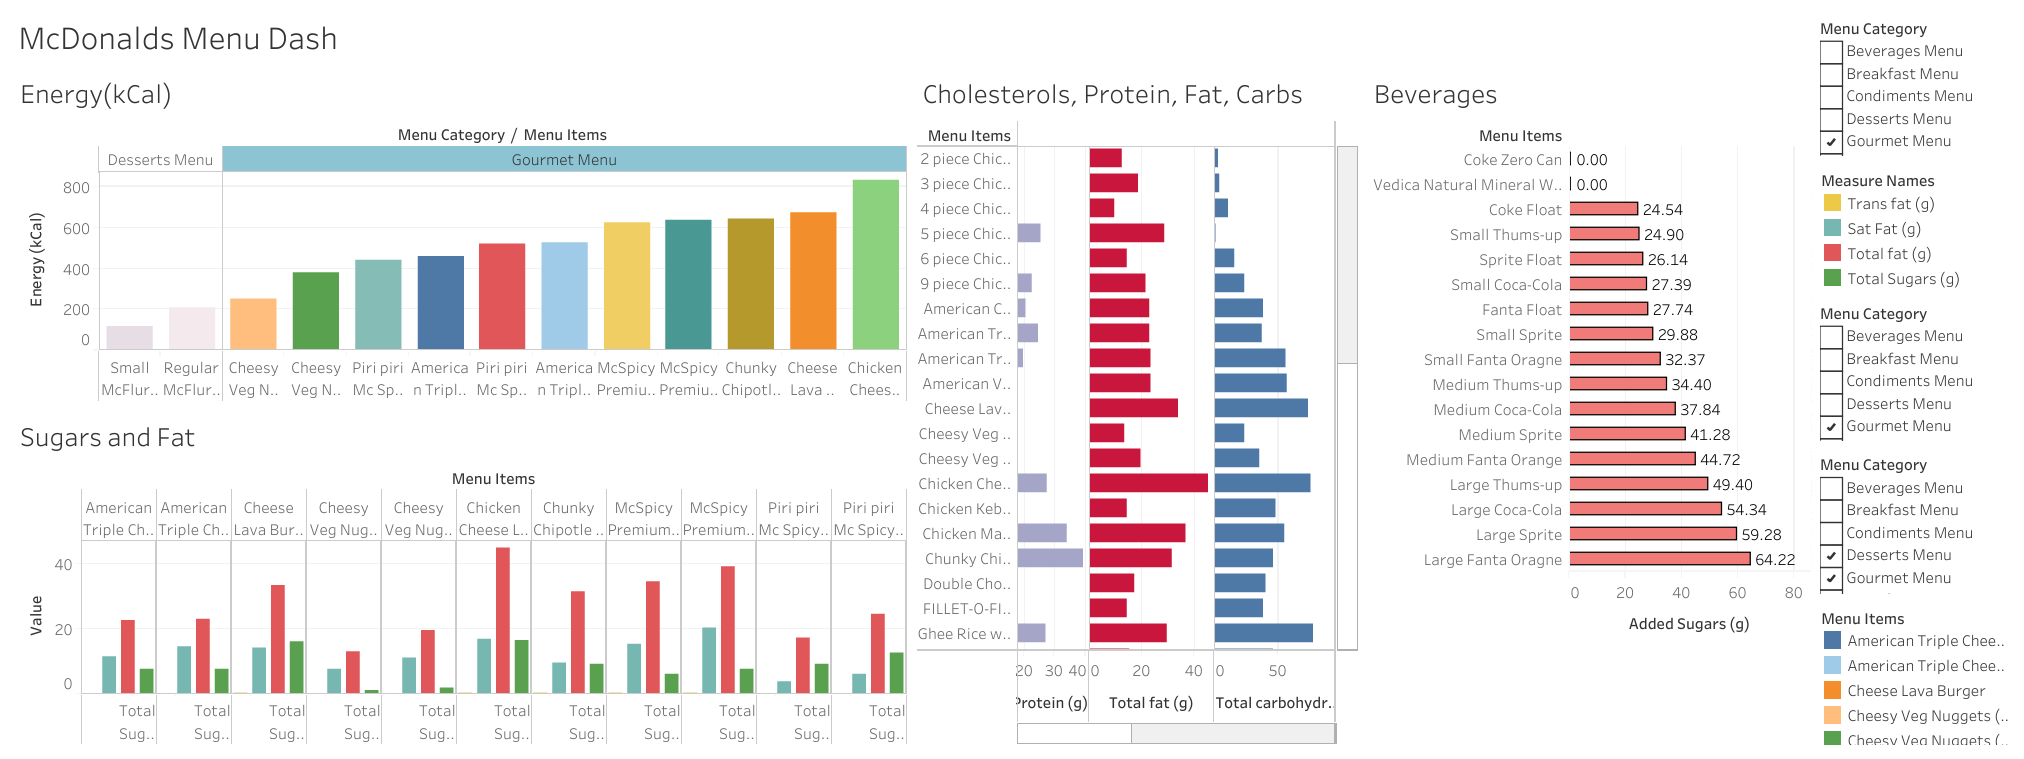

The page's visual inventory and layout, read from the dashboard file:
{"tool":"tableau","page":{"name":"Dashboard 1","canvas":[1000,1000],"units":"permille","ordinal":0},"visuals":[{"type":"title","box":[4.9,13.2,891.4,69.1]},{"type":"filter","title":"Sugars and Fat","param":"[federated.05dphej1wkv2v31b0v9jz0k2dgh5].[none:Menu Category:nk]","box":[896.3,13.2,98.8,199.4]},{"type":"worksheet","title":"Energy(kCal)","mark":"Automatic","rows":["Energy (kCal)"],"cols":["Menu Category","Menu Items"],"box":[4.9,82.2,445.7,452.3]},{"type":"worksheet","title":"Cholesterols, Protein, Fat, Carbs","mark":"Automatic","rows":["Menu Items"],"cols":["Cholesterols (mg)","Protein (g)","Total fat (g)","Total carbohydrate (g)"],"box":[450.6,82.2,222.8,904.6]},{"type":"worksheet","title":"Beverages","mark":"Automatic","rows":["Menu Items"],"cols":["Added Sugars (g)"],"box":[673.5,82.2,222.8,904.6]},{"type":"legend","title":"Sugars and Fat","param":"[federated.05dphej1wkv2v31b0v9jz0k2dgh5].[:Measure Names]","box":[896.3,212.6,98.8,176]},{"type":"filter","title":"Cholesterols, Protein, Fat, Carbs","param":"[federated.05dphej1wkv2v31b0v9jz0k2dgh5].[none:Menu Category:nk]","box":[896.3,388.6,98.8,199.4]},{"type":"worksheet","title":"Sugars and Fat","mark":"Automatic","cols":["Menu Items"],"box":[4.9,534.5,445.7,452.3]},{"type":"filter","title":"Energy(kCal)","param":"[federated.05dphej1wkv2v31b0v9jz0k2dgh5].[none:Menu Category:nk]","box":[896.3,588,98.8,199.4]},{"type":"legend","title":"Energy(kCal)","param":"[federated.05dphej1wkv2v31b0v9jz0k2dgh5].[none:Menu Items:nk]","box":[896.3,787.4,98.8,199.4]}]}

Visuals, with their boxes on the dashboard's canvas, which has no fixed pixel size, in thousandths of its width and height (x1, y1, x2, y2). These are canvas units, not pixel positions in the 2024x759 screenshot, which may show the page scaled, cropped or inside an application window:
title: BBox(5, 13, 896, 82)
"Sugars and Fat" filter: BBox(896, 13, 995, 213)
"Energy(kCal)" worksheet: BBox(5, 82, 451, 534)
"Cholesterols, Protein, Fat, Carbs" worksheet: BBox(451, 82, 673, 987)
"Beverages" worksheet: BBox(674, 82, 896, 987)
"Sugars and Fat" legend: BBox(896, 213, 995, 389)
"Cholesterols, Protein, Fat, Carbs" filter: BBox(896, 389, 995, 588)
"Sugars and Fat" worksheet: BBox(5, 534, 451, 987)
"Energy(kCal)" filter: BBox(896, 588, 995, 787)
"Energy(kCal)" legend: BBox(896, 787, 995, 987)
